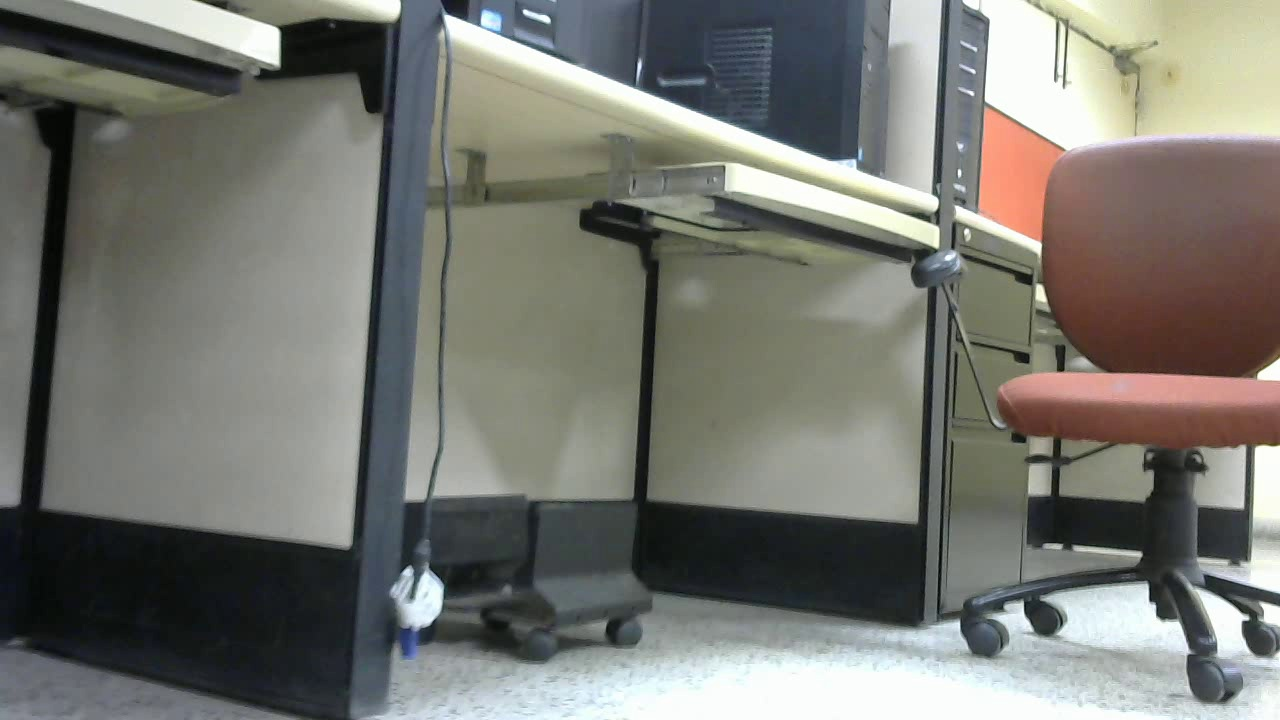chair: (651, 2, 1279, 720), (70, 209, 329, 526)
